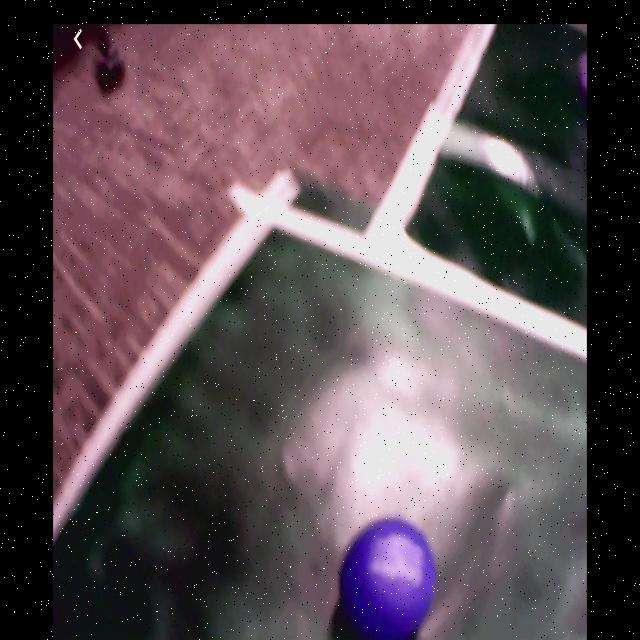ball: (338, 520, 438, 640), (582, 53, 588, 91)
